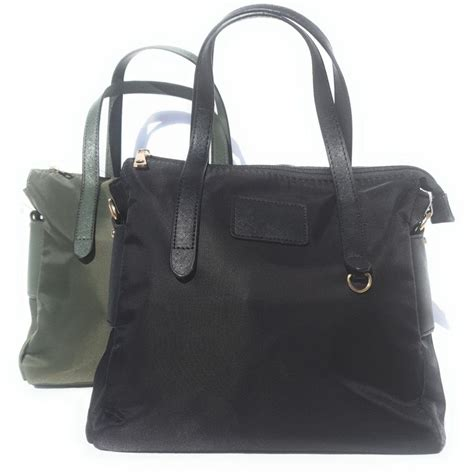nylon: (23, 164, 451, 456)
